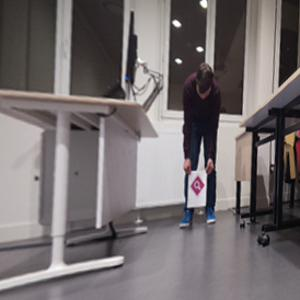search: (190, 175, 205, 196)
